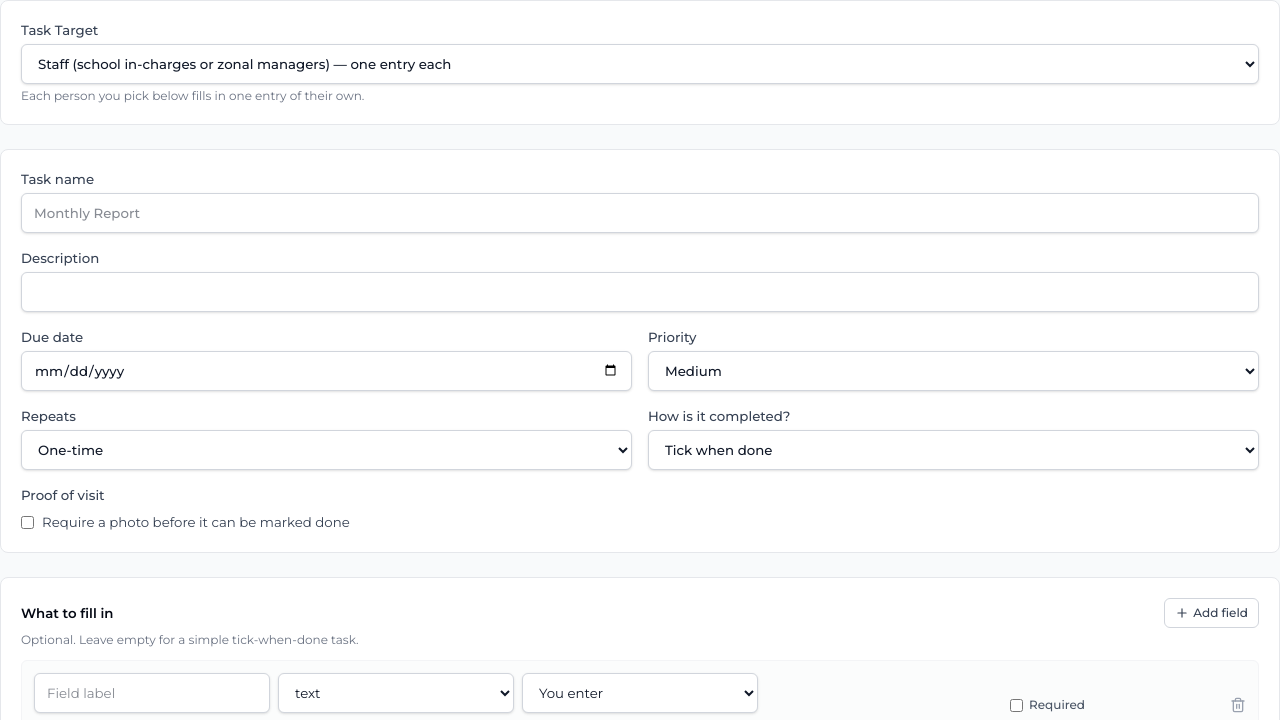
Test case: TrackerBuilder — who fills this in › sends the picked people as doers and says how many could not be assigned
The width and height of the screenshot is (1280, 720).
Type "Visit" into the field with placeholder "Monthly Report" at (640,213), box [21,193,1259,233]
(page scrolled)
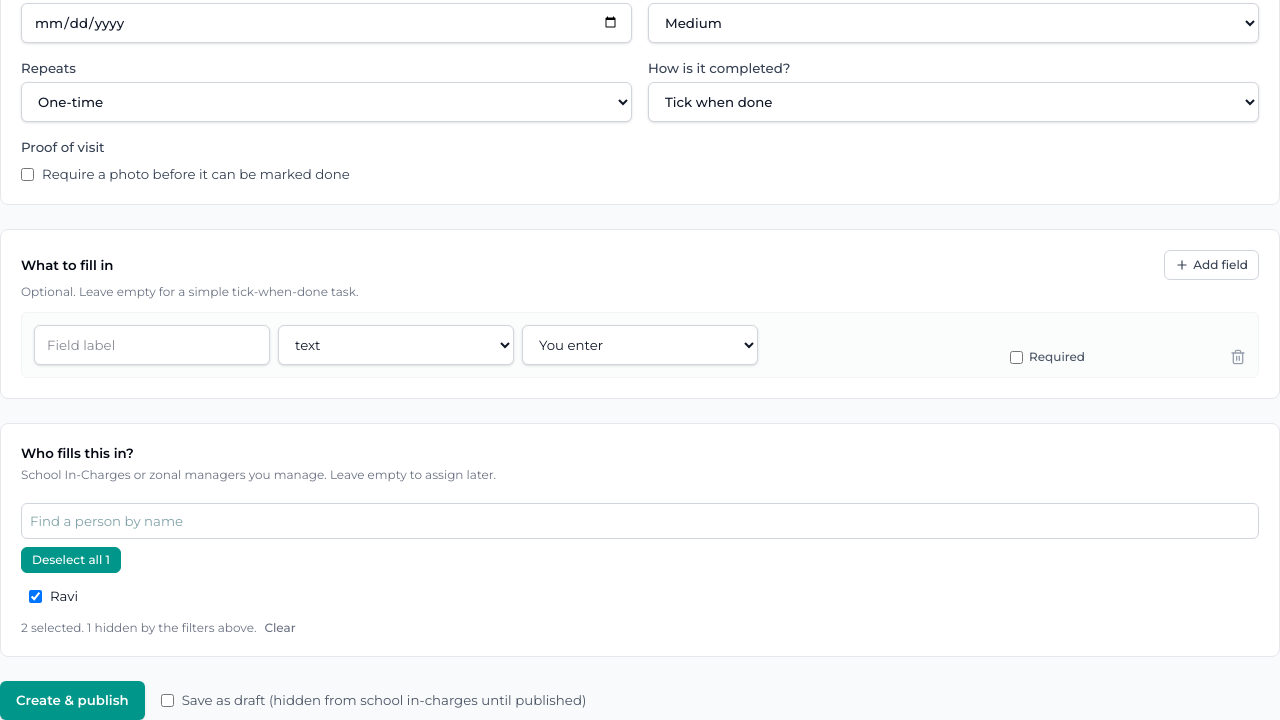
Click the button "Create & publish" at (72,701), box [0,681,145,719]
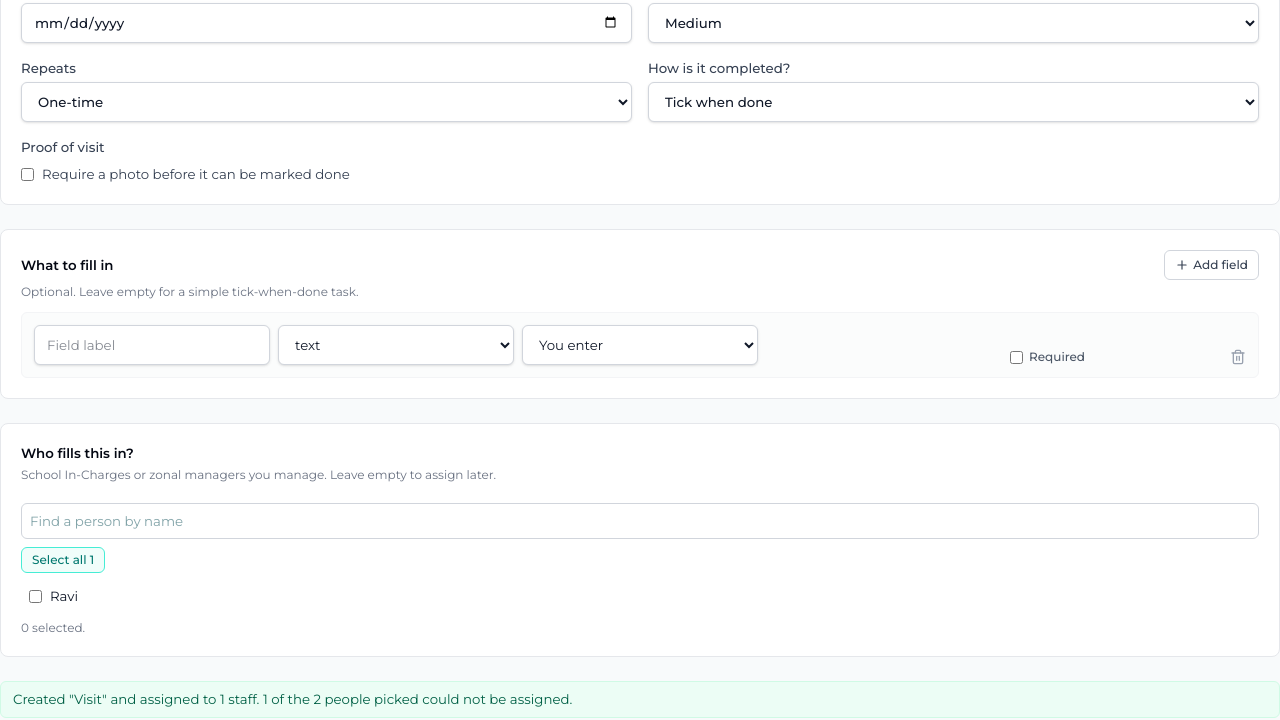
Now the text "assigned to 1 staff. 1 of the 2 people picked could not be assigned" is shown, box [13,691,572,707]
